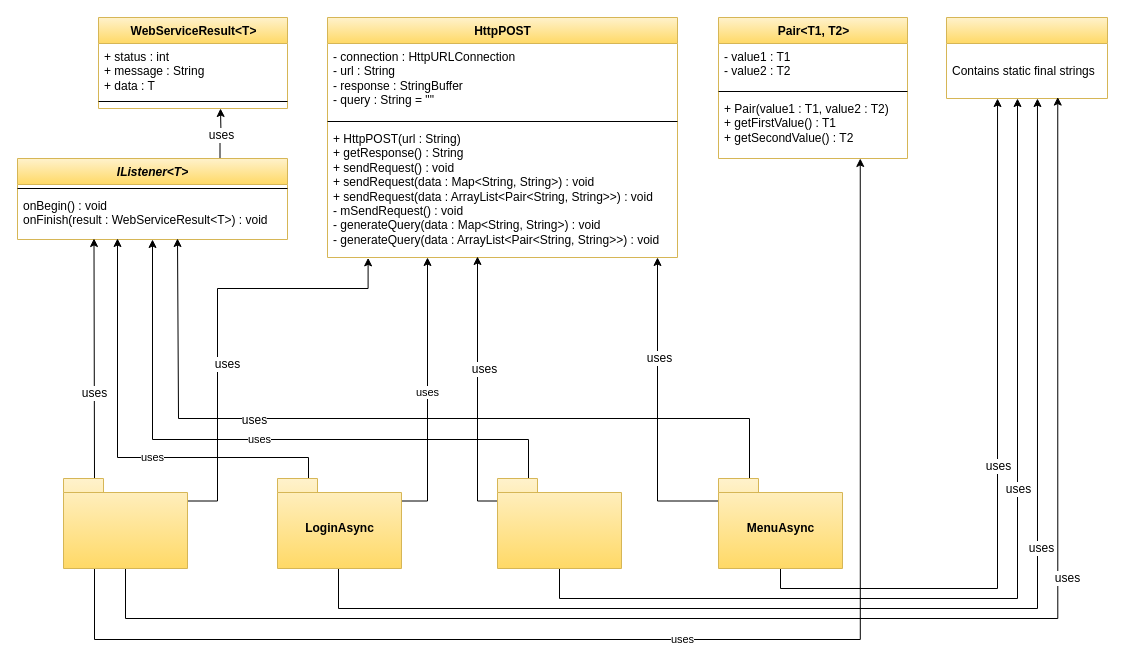
The diagram is 1125 pixels wide and 665 high, and some of its shapes have lost their labels. Each missing label, with the box of its shape:
ConversationAsync: (62, 478, 188, 568)
MainAsync: (496, 478, 622, 568)
WebServiceStrings: (946, 16, 1108, 98)
